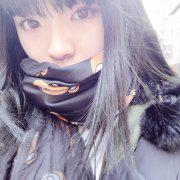WRONG: (15, 5, 118, 108)
